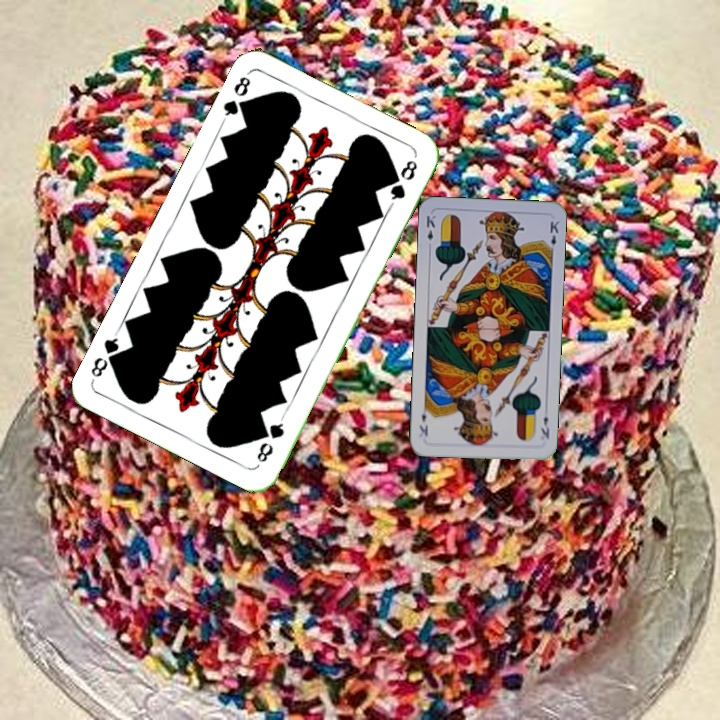EK: (422, 211, 438, 252), (537, 412, 552, 441)
G8: (218, 69, 253, 125), (252, 413, 287, 466)
